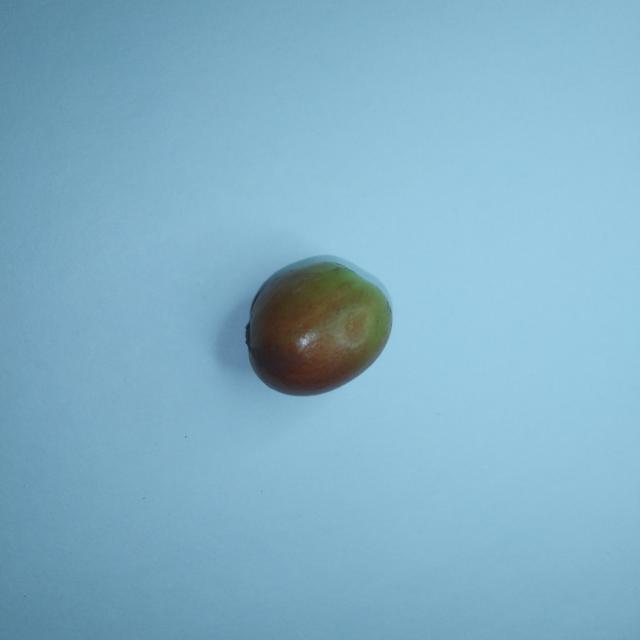Sano: (245, 256, 392, 395)
